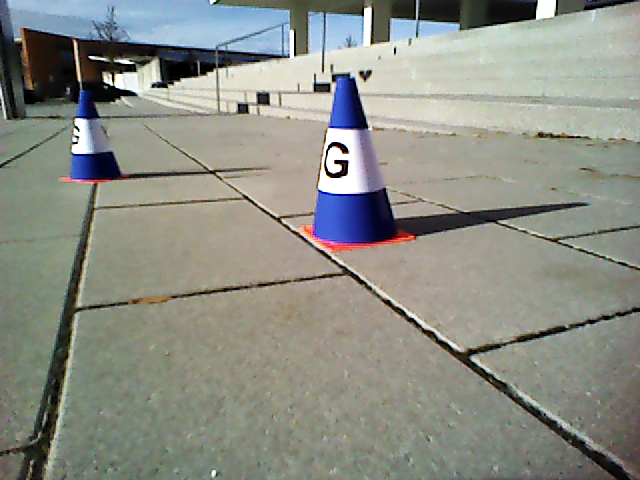bluecone: (313, 78, 394, 240), (69, 92, 121, 180)
